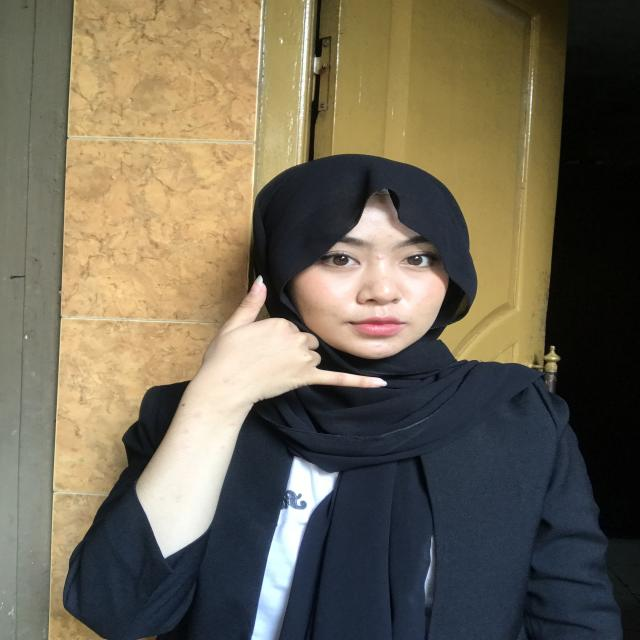telpon: (188, 273, 394, 425)
